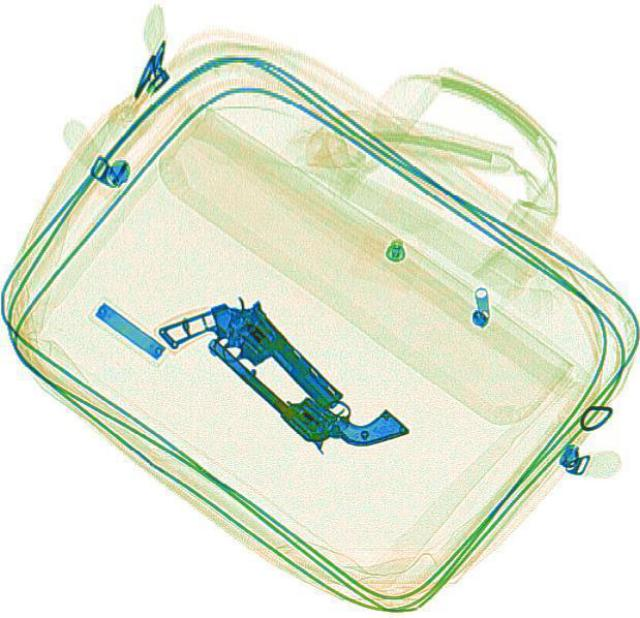Gun: (201, 292, 409, 480), (154, 273, 348, 449)
